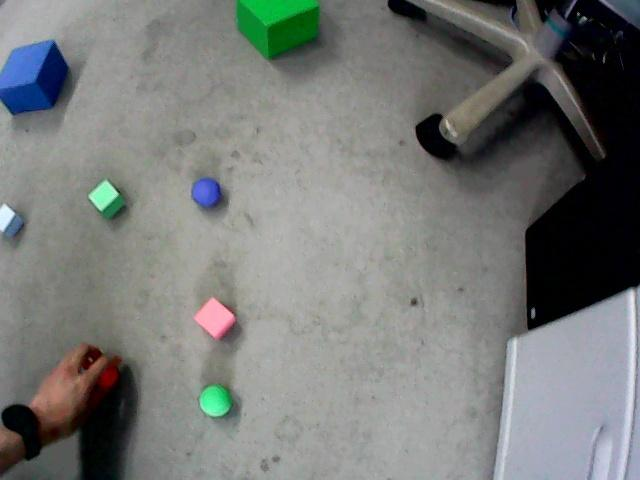blue_block: (0, 40, 68, 113), (0, 204, 23, 236), (4, 215, 23, 236)
red_block: (194, 298, 234, 339)
